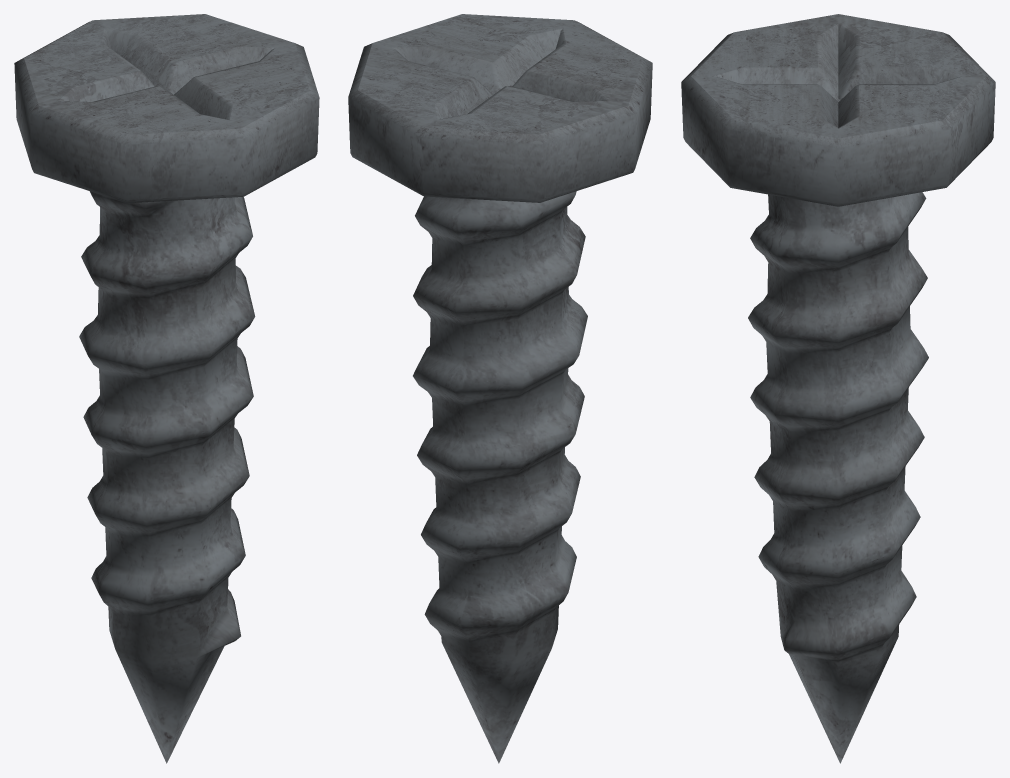
Rendered from screw.glb.
The picture shows the model from 3 angles, left to right: view 1: azimuth 30°, elevation 25°; view 2: azimuth 150°, elevation 25°; view 3: azimuth 270°, elevation 25°; orthographic projection.
Visible parts, largest first — view 1: Screw_low; view 2: Screw_low; view 3: Screw_low.
Part boxes in pixels (x1,y1,x2,y2): Screw_low: (14, 14, 319, 763); Screw_low: (348, 14, 652, 763); Screw_low: (681, 14, 995, 763).
Size of the model in its own units: 36.04 by 86.9 by 36.04.
Materials: 1 (1 with a texture image).
